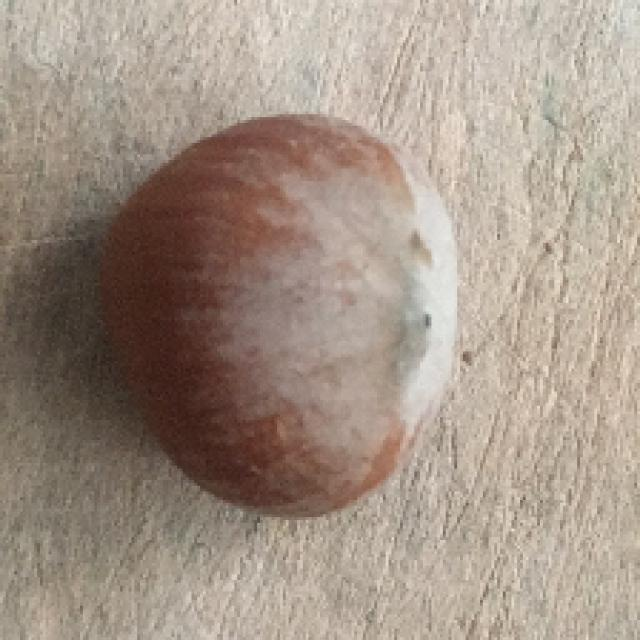qualityHazelnut: (101, 115, 458, 513)
